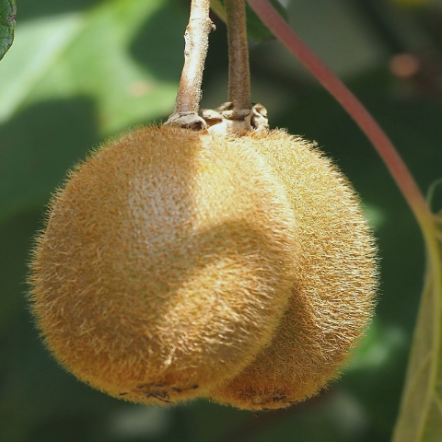kiwi: (26, 104, 298, 428)
